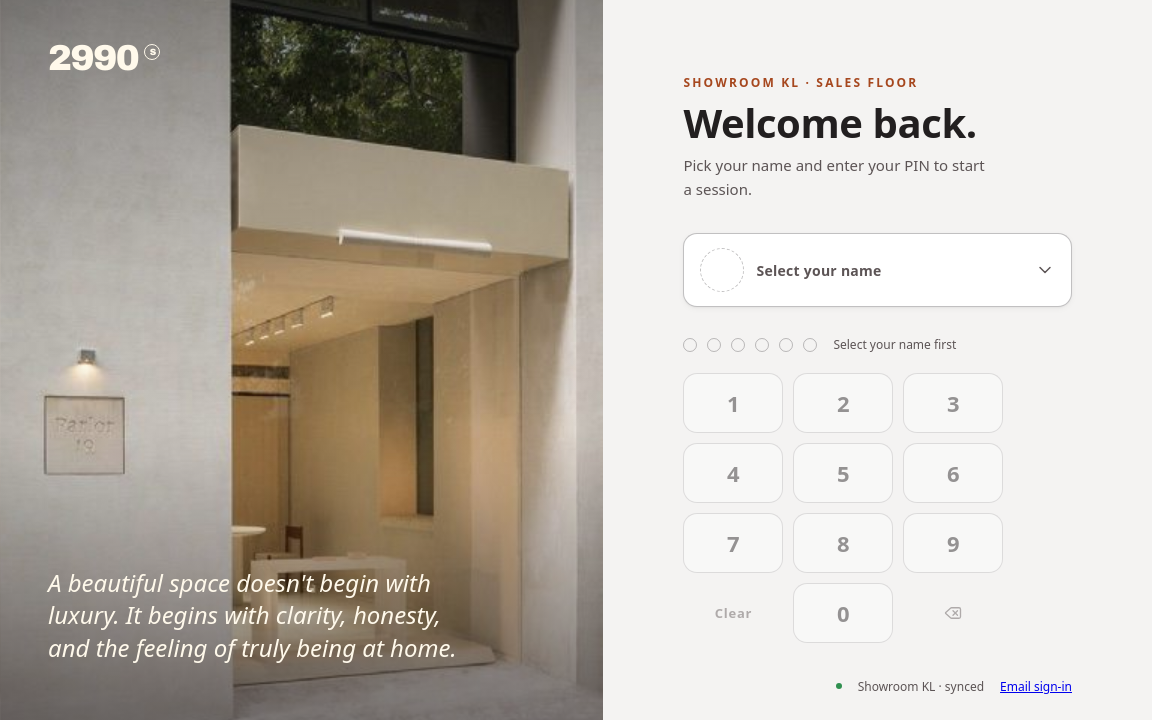
Test: LockScreen staff picker › says so when nothing matches, instead of an empty box
Step 1. Click the button "Select your name" → (878, 270), box [683,233,1072,307]
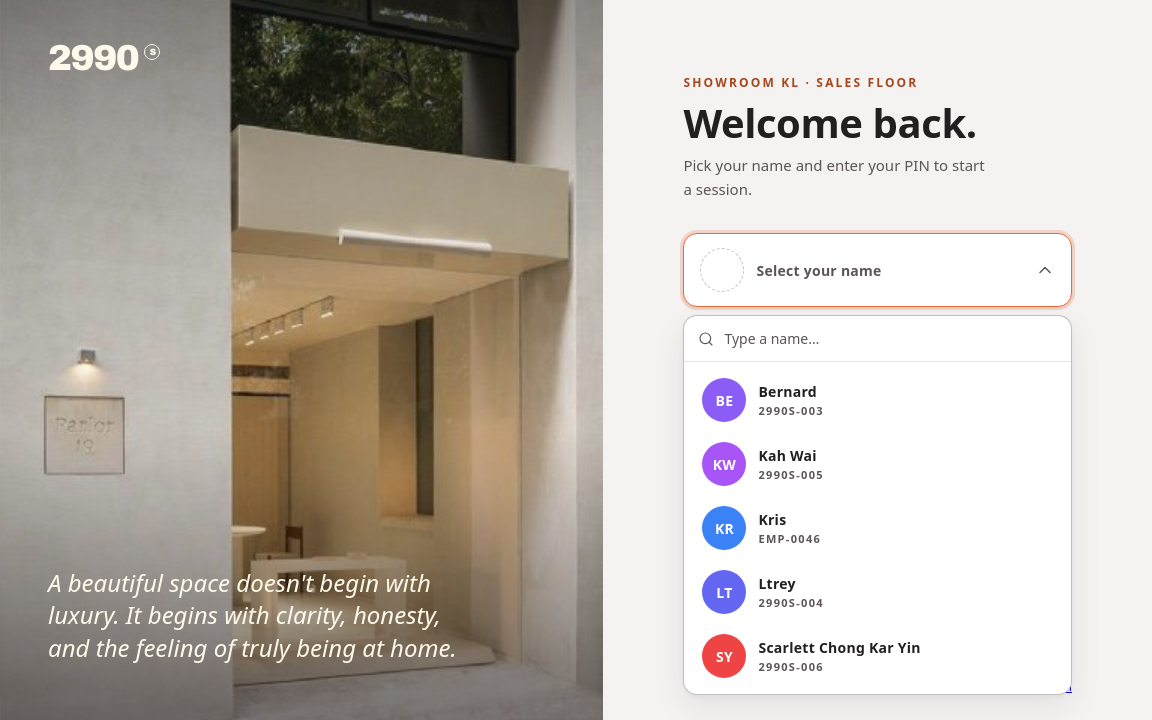
Step 2. Type "zzz" into the field named "filter staff" → (890, 339), box [722,328,1057,349]
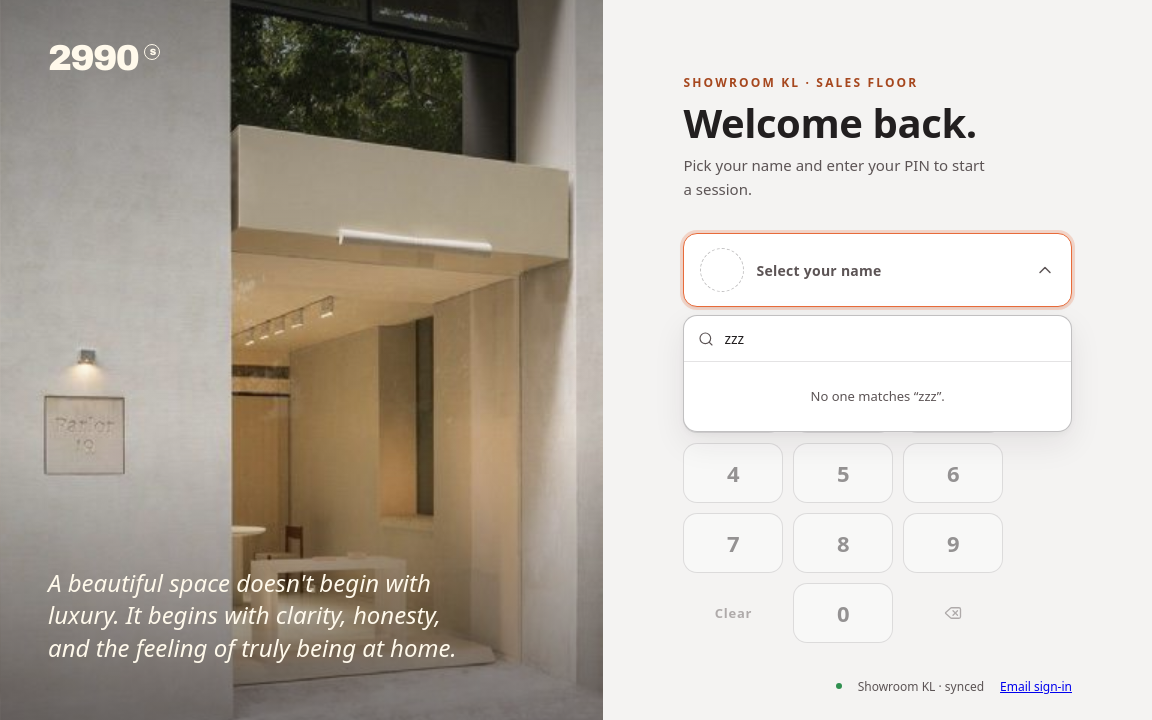
Check: the option is gone
Check: the list item "No one matches “zzz”." is shown, box [811,387,945,405]
